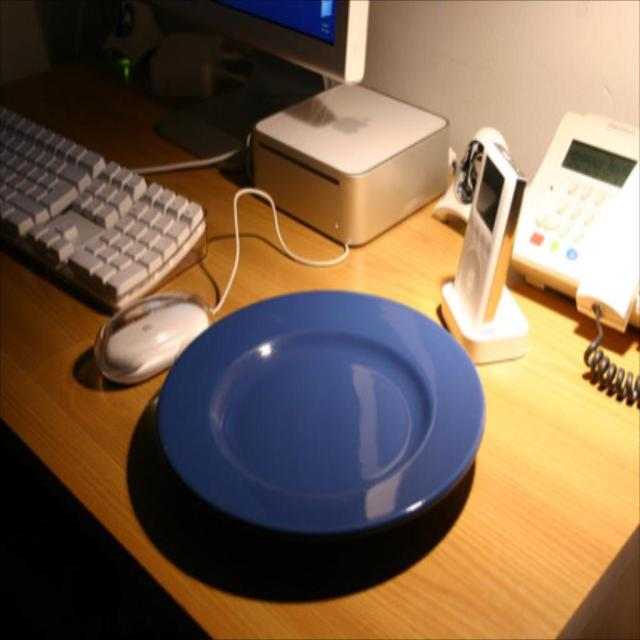Computer-mouse: (92, 285, 213, 384)
